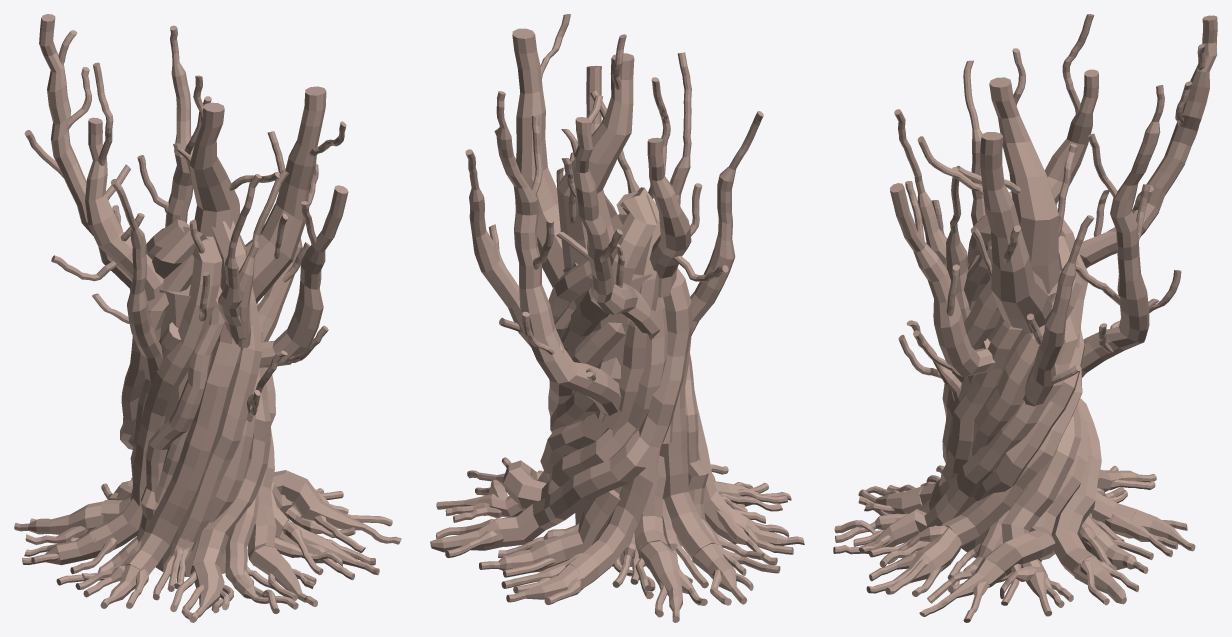
File: bigtree.gltf
3 views of the same model, side by side, from view 1: azimuth 30°, elevation 25°; view 2: azimuth 150°, elevation 25°; view 3: azimuth 270°, elevation 25° (orthographic). The views are drawn at different scales.
Visible parts, largest first — view 1: group714029534, group1338073359, group489365755, group1880557378, group1532606022, group1645259099, group1153180034, group240417891, group1494371246, group1716827882, group1823827936, group108648647 (+27 smaller); view 2: group108648647, group601064043, group244843052, group489365755, group240417891, group1153180034, group1338073359, group1494371246, group26012683, group1041985594, group334543148, group1823827936 (+25 smaller); view 3: group1153180034, group489365755, group601064043, group1625258563, group240417891, group1645259099, group1716827882, group1451681568, group1007075876, group1612250003, group108648647, group244843052 (+28 smaller).
Boxes of the visible parts, x1,y1,x2,y2 form: group714029534: (121, 220, 247, 574); group1338073359: (89, 236, 222, 549); group489365755: (245, 86, 326, 303); group1880557378: (176, 286, 262, 542); group1532606022: (56, 286, 224, 585); group1645259099: (259, 185, 348, 367); group1153180034: (189, 102, 239, 286); group240417891: (39, 14, 132, 291); group1494371246: (85, 117, 163, 301); group1716827882: (190, 316, 270, 573); group1823827936: (110, 179, 163, 383); group108648647: (120, 254, 194, 449); group108648647: (495, 214, 692, 546); group601064043: (496, 91, 621, 416); group244843052: (503, 297, 667, 508); group489365755: (512, 28, 564, 287); group240417891: (574, 117, 660, 338); group1153180034: (557, 53, 634, 268); group1338073359: (616, 191, 718, 559); group1494371246: (647, 137, 691, 297); group26012683: (561, 194, 657, 351); group1041985594: (565, 447, 660, 587); group334543148: (602, 187, 660, 430); group1823827936: (690, 111, 763, 336); group1153180034: (989, 77, 1060, 293); group489365755: (980, 132, 1052, 333); group601064043: (1081, 85, 1164, 377); group1625258563: (914, 311, 1079, 532); group240417891: (1079, 15, 1217, 268); group1645259099: (890, 183, 995, 377); group1716827882: (919, 270, 1061, 505); group1451681568: (972, 236, 1081, 455); group1007075876: (941, 368, 1082, 546); group1612250003: (1001, 405, 1081, 561); group108648647: (1051, 398, 1101, 576); group244843052: (982, 405, 1087, 575).
Bounding box in the file's own units: 0.4994 × 0.7315 × 0.5104.
